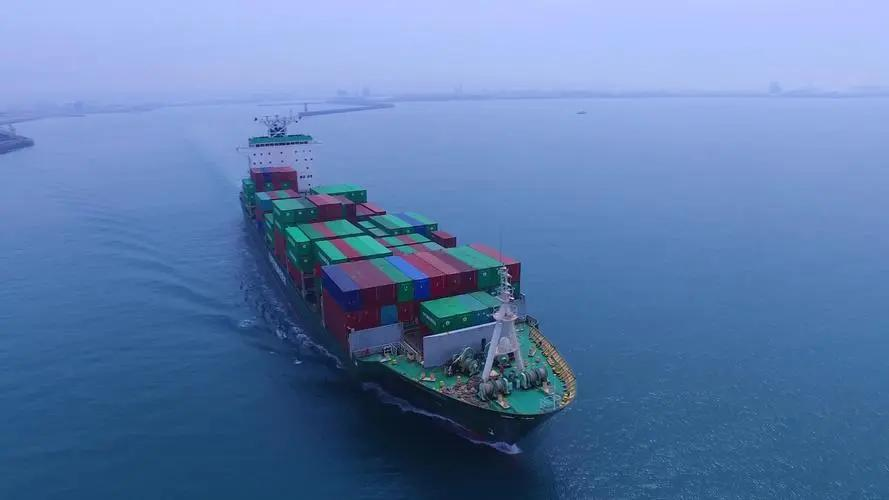Ship: (240, 165, 575, 440)
